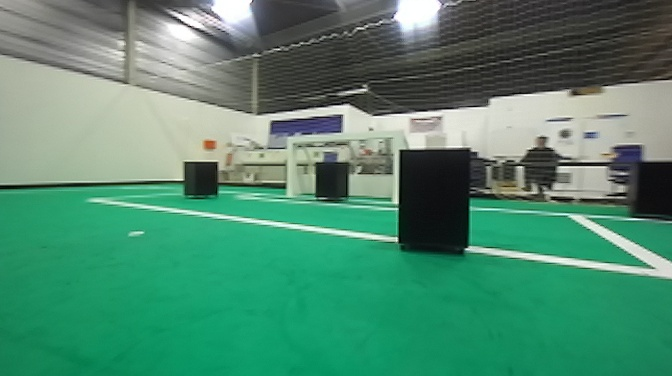goalpost: (389, 133, 402, 202), (285, 137, 295, 197)
